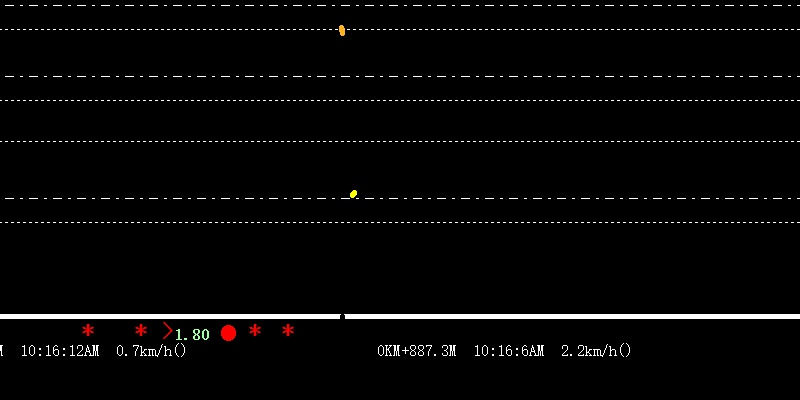circle: (219, 322, 237, 342)
face_1: (337, 22, 345, 38)
star: (245, 322, 264, 339), (280, 319, 295, 338), (79, 321, 95, 338), (133, 320, 148, 337)
